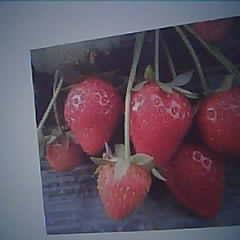straw-ripe: (132, 83, 192, 162), (64, 76, 122, 154), (169, 147, 225, 219), (97, 157, 152, 220)
